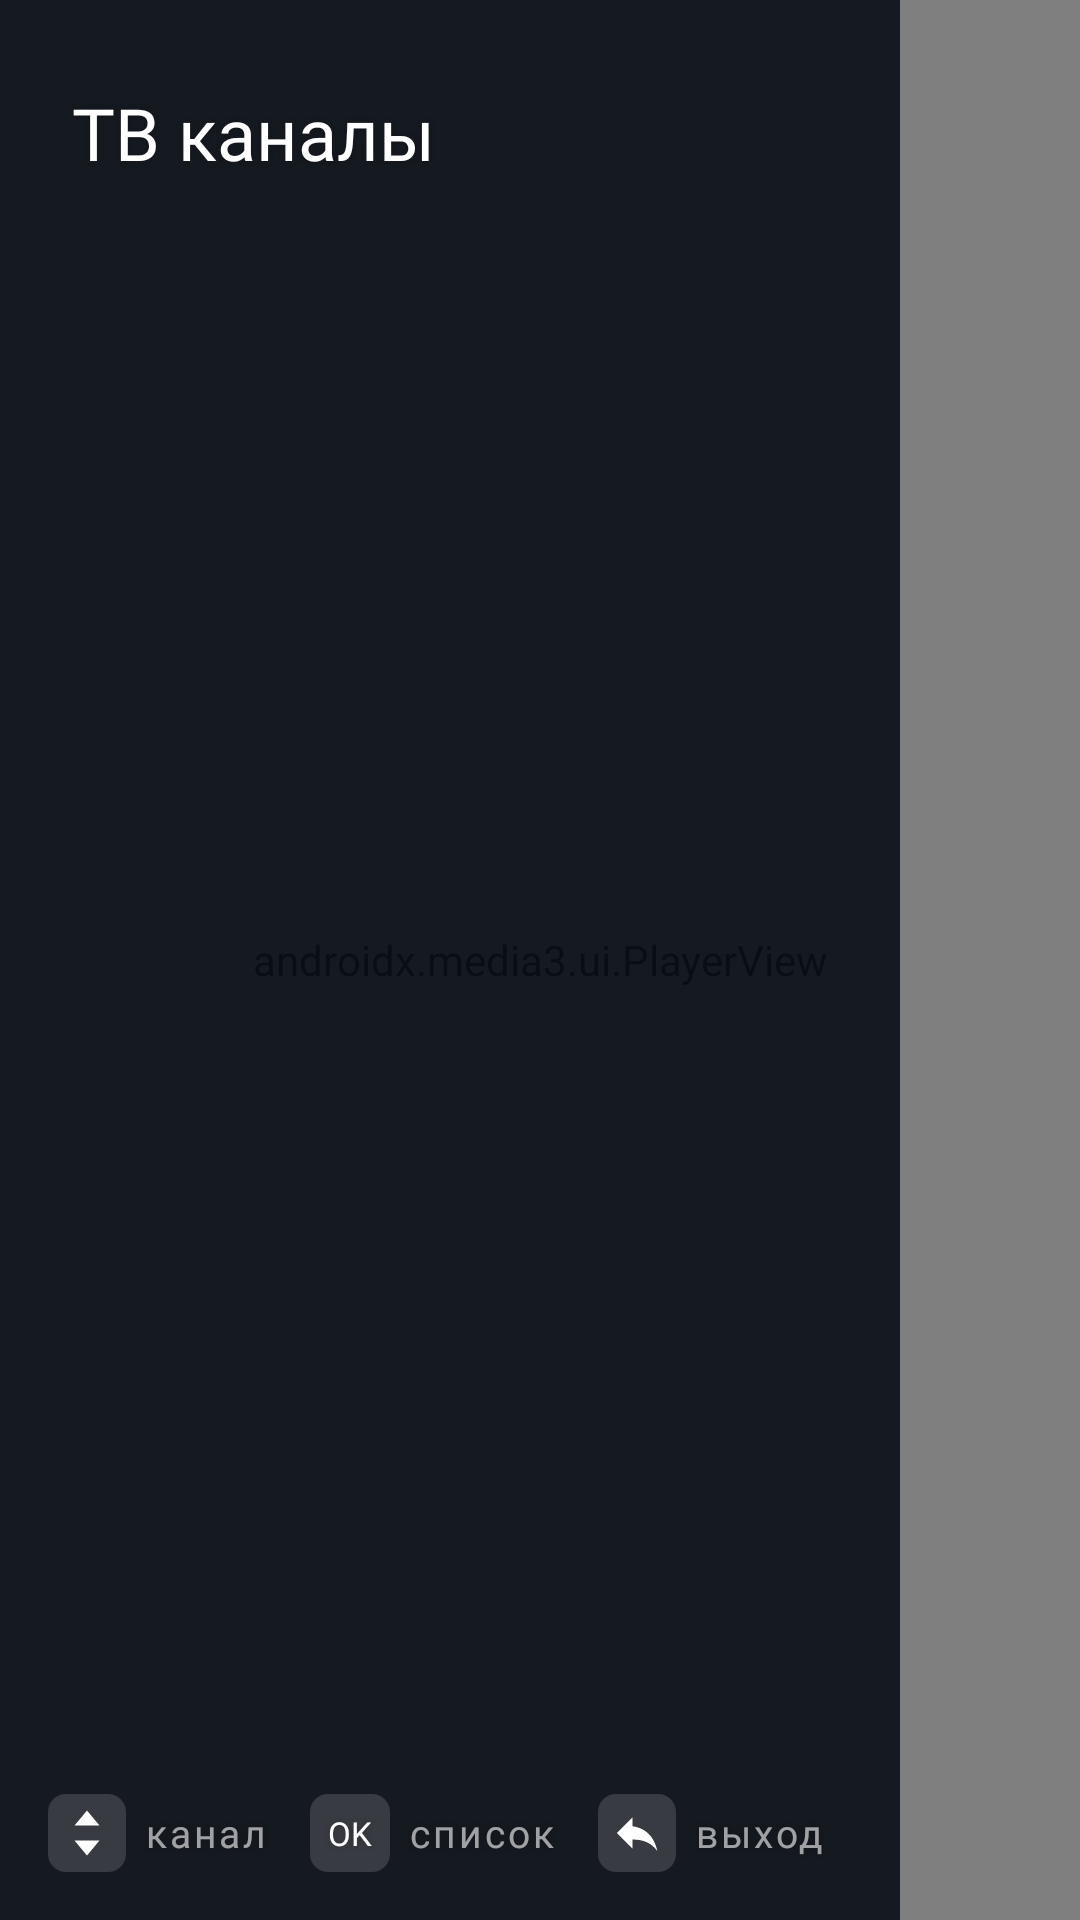

Named icons in this screenshot (1080x1920) and their centers, [x,y]:
back: [637,1833]
updown: [87,1833]
